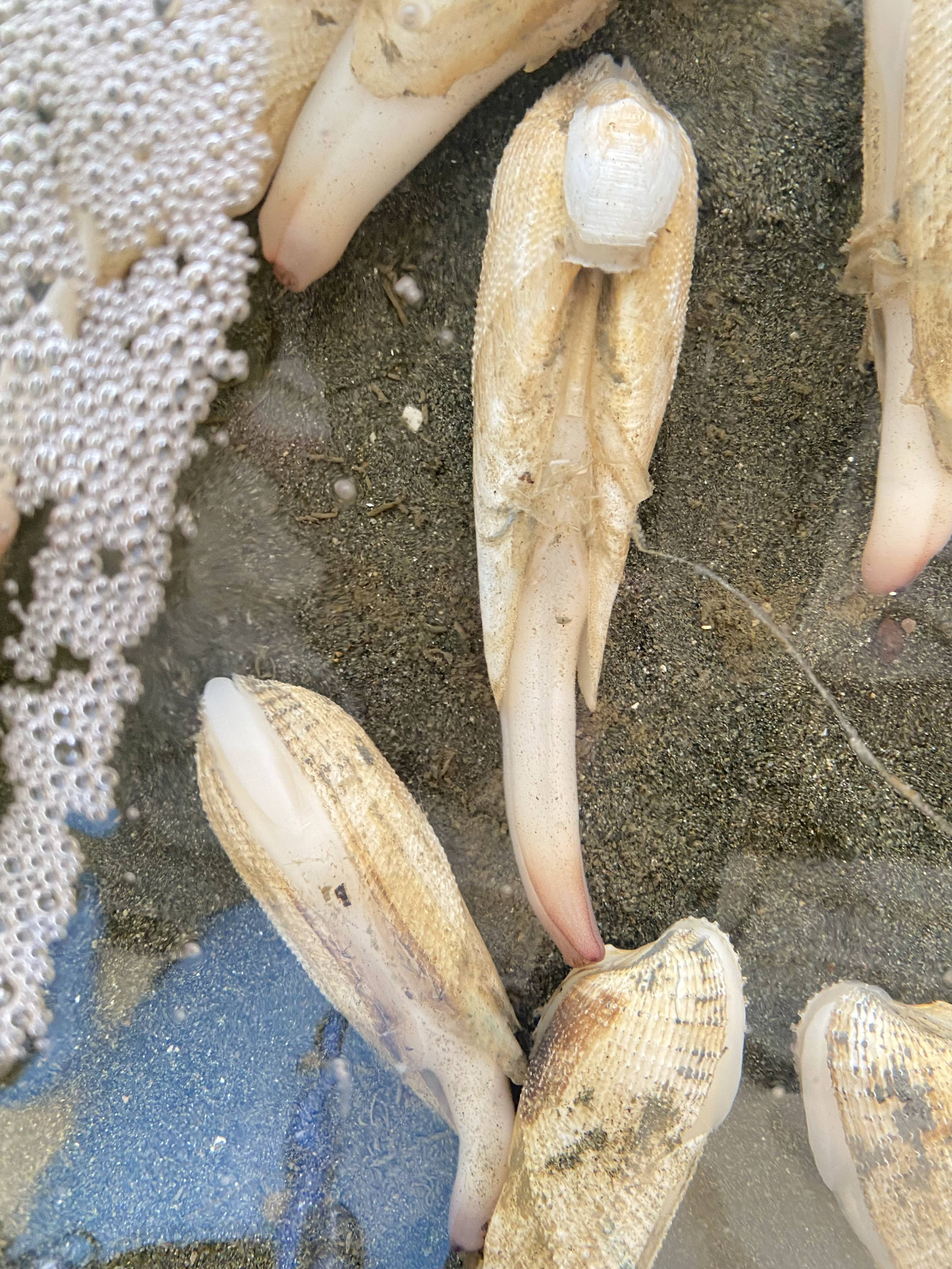Healthy: (197, 676, 524, 1249), (259, 0, 610, 290), (843, 0, 952, 593), (500, 531, 604, 966), (438, 42, 443, 67)
